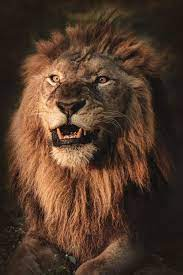lion: (20, 24, 156, 263)
